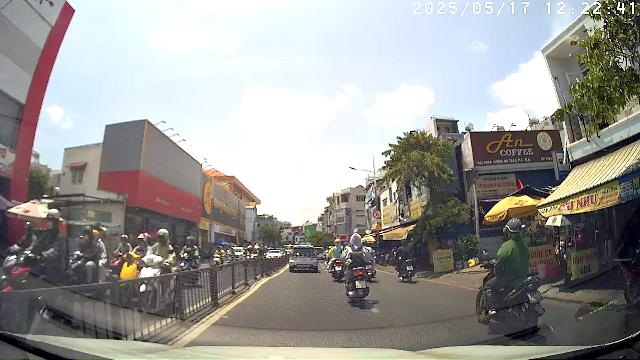124b-cam-oto-quay-dau-xe: (373, 210, 382, 219)
